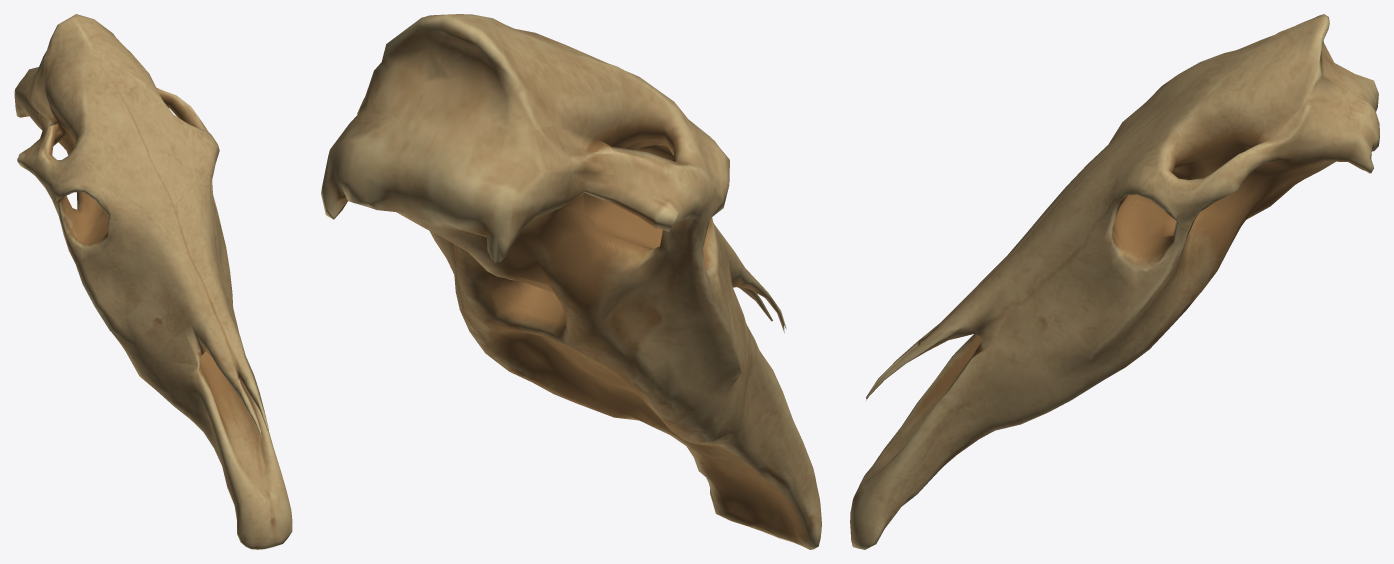
File: Cranium.glb
3 views of the same model, side by side, from view 1: azimuth 30°, elevation 25°; view 2: azimuth 150°, elevation 25°; view 3: azimuth 270°, elevation 25° (orthographic). The views are drawn at different scales.
Visible parts, largest first — view 1: skull2.002; view 2: skull2.002; view 3: skull2.002.
Part boxes in pixels (box(x1,y1,x2,y2)): skull2.002: box(14, 14, 292, 549); skull2.002: box(321, 14, 821, 549); skull2.002: box(850, 14, 1379, 549).
Size of the model in its own units: 0.1996 by 0.4547 by 0.4218.
1 material, 1 textured.
